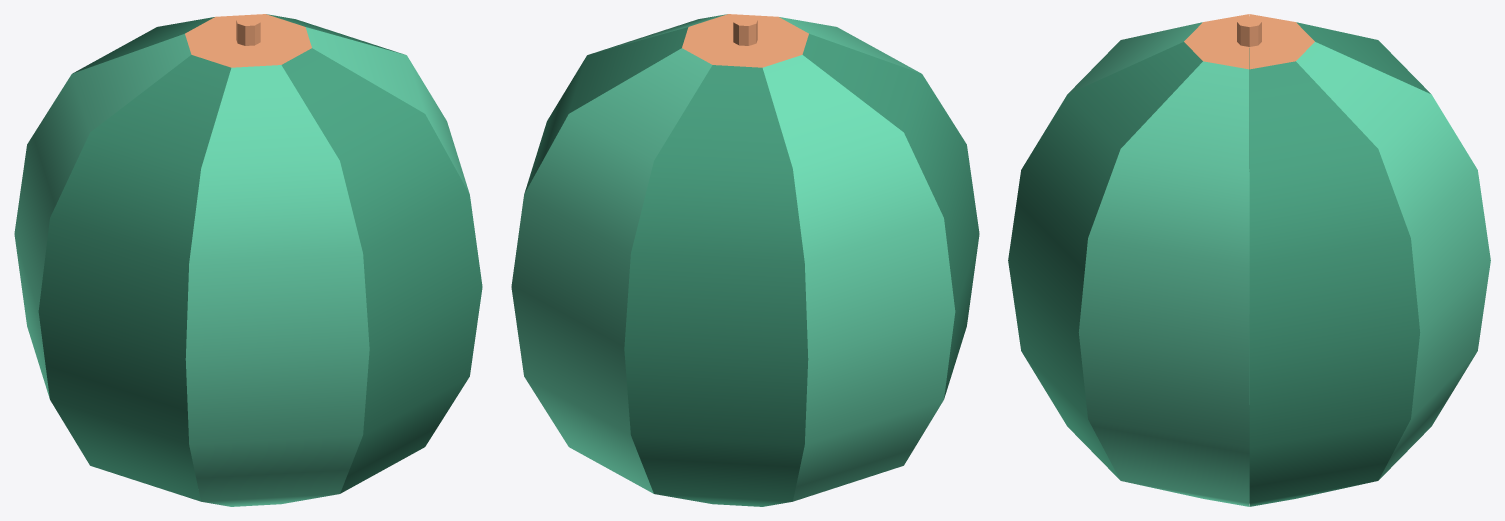
The model's file is watermelon.fbx.
3 views of the same model, side by side, from view 1: azimuth 30°, elevation 25°; view 2: azimuth 150°, elevation 25°; view 3: azimuth 270°, elevation 25° (orthographic).
Visible parts, largest first — view 1: slice (×7); view 2: slice (×7); view 3: slice (×6).
Boxes of the visible parts, bbox=[...] form: slice (×7): bbox=[14, 14, 482, 506]; slice (×7): bbox=[511, 14, 979, 506]; slice (×6): bbox=[1008, 18, 1490, 506].
Size of the model in its own units: 4.55 by 4.76 by 4.55.
